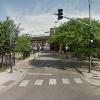Tree: (48, 18, 100, 65)
